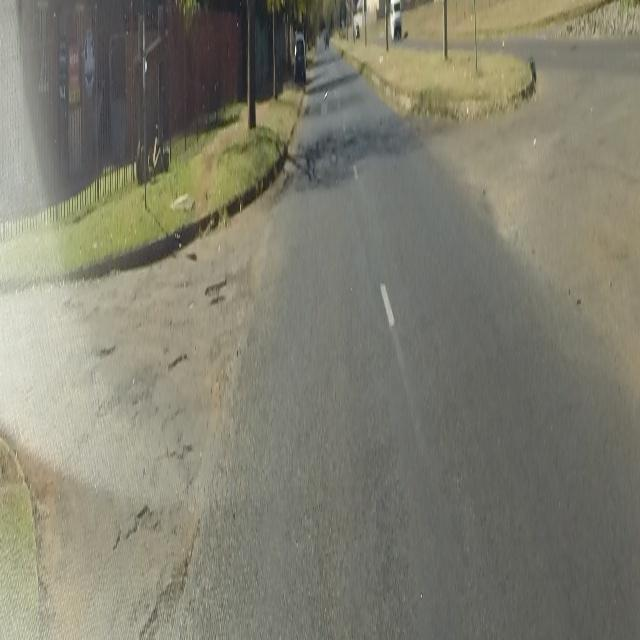pothole: (138, 600, 188, 627), (126, 501, 152, 548), (202, 271, 228, 311), (167, 346, 190, 374), (98, 337, 115, 361)
